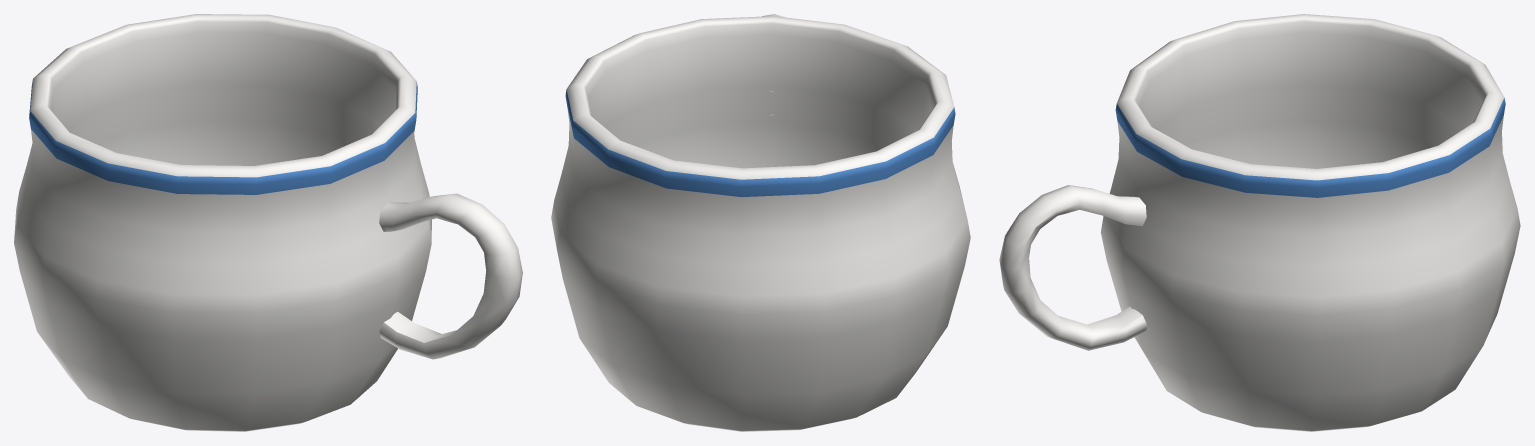
The model's file is Cup_3.glb.
3 renders of one model, left to right at view 1: azimuth 30°, elevation 25°; view 2: azimuth 150°, elevation 25°; view 3: azimuth 270°, elevation 25°, orthographic.
Parts seen in each view (by area): view 1: Cup_3; view 2: Cup_3; view 3: Cup_3.
Part boxes in pixels (box(x1,y1,x2,y2)): Cup_3: box(14, 14, 522, 431); Cup_3: box(551, 14, 970, 431); Cup_3: box(999, 14, 1520, 431).
Size of the model in its own units: 0.1736 by 0.1256 by 0.214.
1 material, 1 textured.
